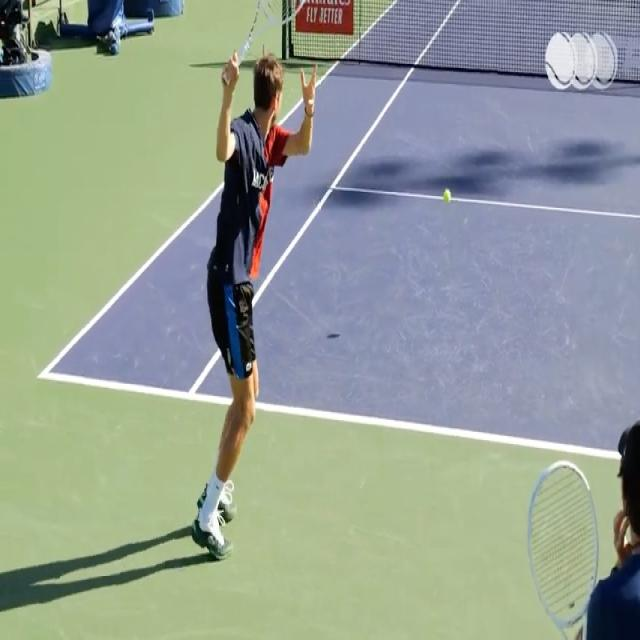forehand-ready: (192, 2, 322, 559)
